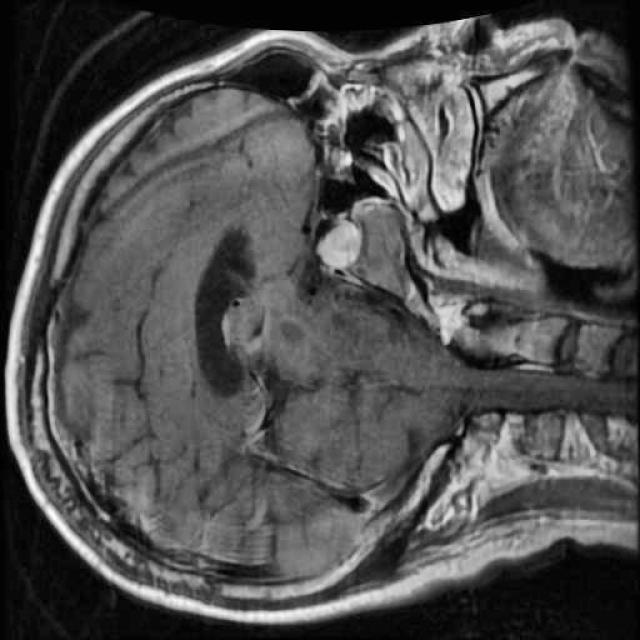Tumor: (301, 206, 372, 288)
